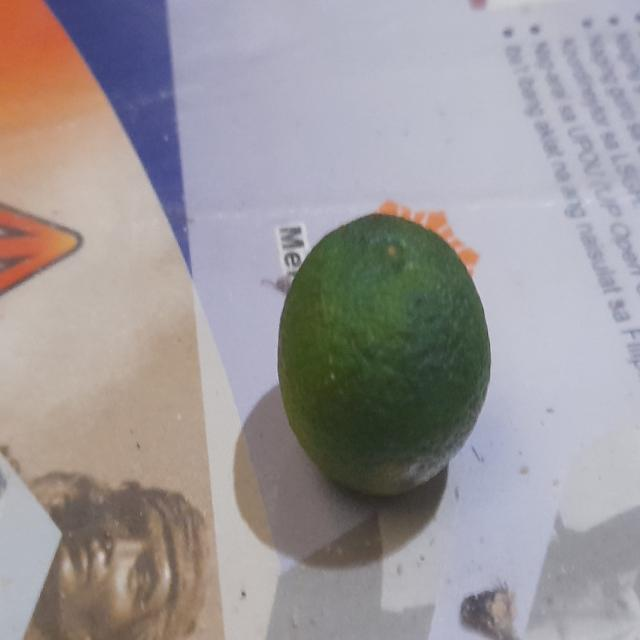heathy: (275, 209, 491, 497)
